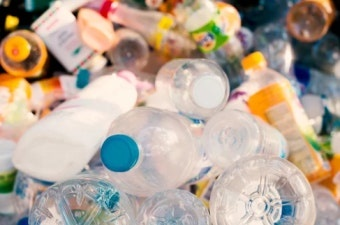plastic: (155, 58, 231, 118)
